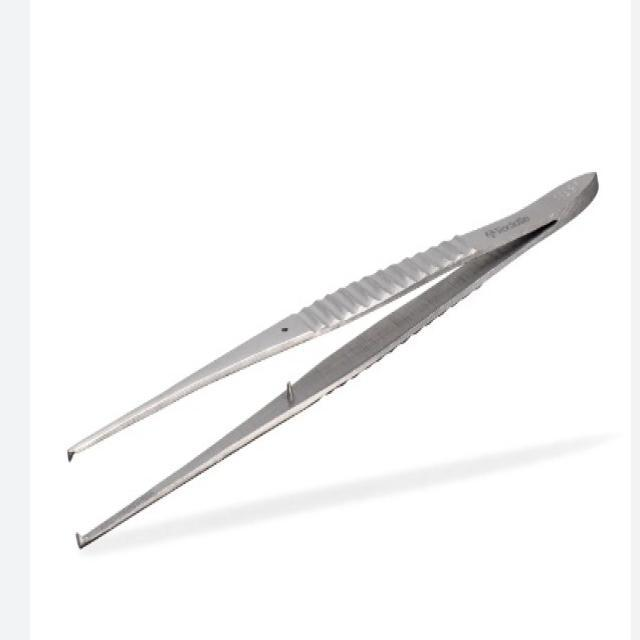Disscting Forceps -tooth-: (66, 170, 604, 552)
